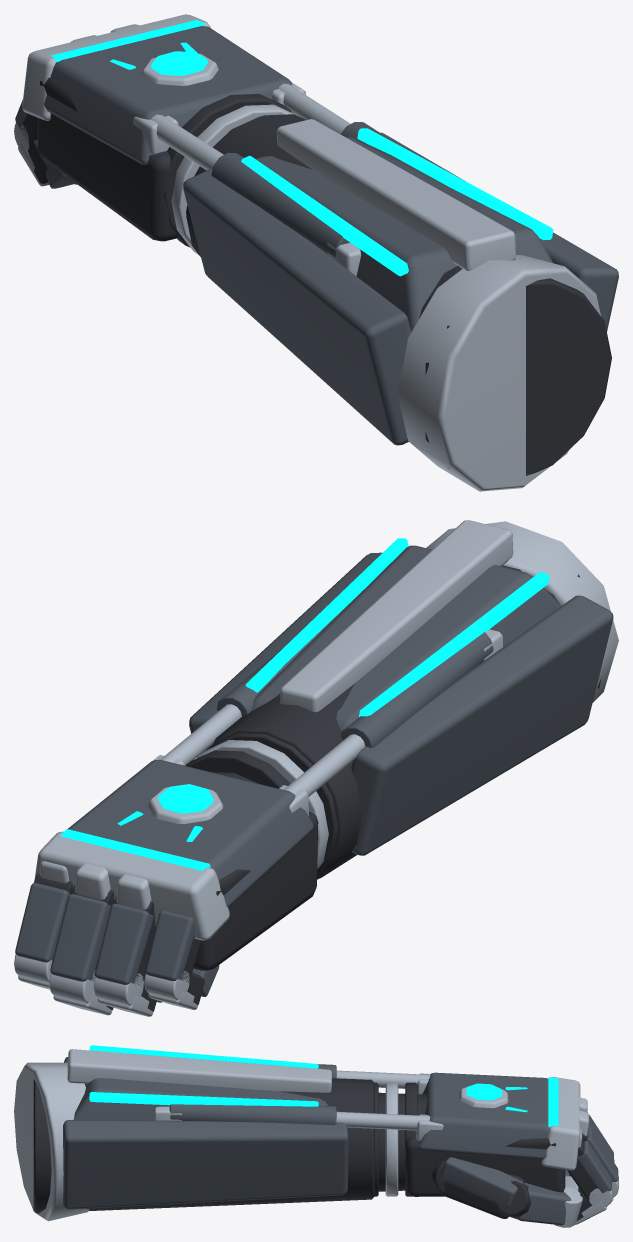
The model's file is puno_corebreaker.glb.
The picture shows the model from 3 angles, top to bottom: view 1: azimuth 30°, elevation 25°; view 2: azimuth 150°, elevation 25°; view 3: azimuth 270°, elevation 25°; orthographic projection. The views are drawn at different scales.
Visible parts, largest first — view 1: Antebrazo_Lat_-1, Brazalete_Aro, Antebrazo_Interior, Dorso_Placa, Antebrazo_Espina, Antebrazo_PlacaSup, Palma_Base, Piston_Cil_-0.035, Nudillera_Barra, Antebrazo_Cian_1, Antebrazo_Lat_1, Antebrazo_Cian_-1 (+9 smaller); view 2: Antebrazo_Lat_-1, Dorso_Placa, Antebrazo_Espina, Antebrazo_PlacaSup, Nudillera_Barra, Antebrazo_Interior, Palma_Base, Brazalete_Aro, Piston_Cil_-0.035, Medio_F1_Armor, Anular_F1_Armor, Antebrazo_Cian_-1 (+19 smaller); view 3: Antebrazo_Lat_1, Dorso_Placa, Antebrazo_Espina, Antebrazo_Interior, Brazalete_Aro, Antebrazo_PlacaSup, Palma_Base, Piston_Cil_0.035, Nudillera_Barra, Pulgar_MetaArmor, Antebrazo_Cian_1, Muneca_Nucleo (+22 smaller).
Part boxes in pixels (x1,y1,x2,y2): Antebrazo_Lat_-1: (183, 169, 411, 445); Brazalete_Aro: (397, 255, 601, 491); Antebrazo_Interior: (186, 114, 611, 475); Dorso_Placa: (44, 26, 292, 164); Antebrazo_Espina: (276, 119, 515, 270); Antebrazo_PlacaSup: (255, 137, 552, 331); Palma_Base: (37, 77, 178, 241); Piston_Cil_-0.035: (211, 152, 349, 257); Nudillera_Barra: (22, 14, 210, 120); Antebrazo_Cian_1: (357, 128, 553, 240); Antebrazo_Lat_1: (380, 132, 618, 331); Antebrazo_Cian_-1: (241, 155, 408, 276); Antebrazo_Lat_-1: (351, 595, 613, 855); Dorso_Placa: (68, 759, 313, 907); Antebrazo_Espina: (280, 520, 513, 712); Antebrazo_PlacaSup: (252, 545, 560, 730); Nudillera_Barra: (34, 831, 229, 940); Antebrazo_Interior: (206, 565, 601, 879); Palma_Base: (193, 811, 318, 970); Brazalete_Aro: (426, 521, 618, 702); Piston_Cil_-0.035: (341, 632, 493, 747); Medio_F1_Armor: (50, 894, 110, 981); Anular_F1_Armor: (95, 903, 153, 984); Antebrazo_Cian_-1: (359, 571, 549, 716); Antebrazo_Lat_1: (63, 1120, 348, 1209); Dorso_Placa: (419, 1072, 549, 1159); Antebrazo_Espina: (67, 1049, 331, 1092); Antebrazo_Interior: (33, 1078, 374, 1213); Brazalete_Aro: (14, 1062, 89, 1221); Antebrazo_PlacaSup: (73, 1078, 327, 1120); Palma_Base: (405, 1136, 565, 1196); Piston_Cil_0.035: (169, 1104, 336, 1125); Nudillera_Barra: (541, 1077, 580, 1170); Pulgar_MetaArmor: (440, 1157, 522, 1207); Antebrazo_Cian_1: (89, 1092, 318, 1106); Muneca_Nucleo: (378, 1092, 427, 1191).
Bounding box in the file's own units: 0.1423 × 0.1241 × 0.4348.
